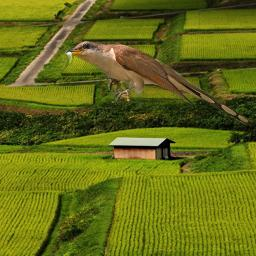Cuckoo: (61, 40, 253, 125)
